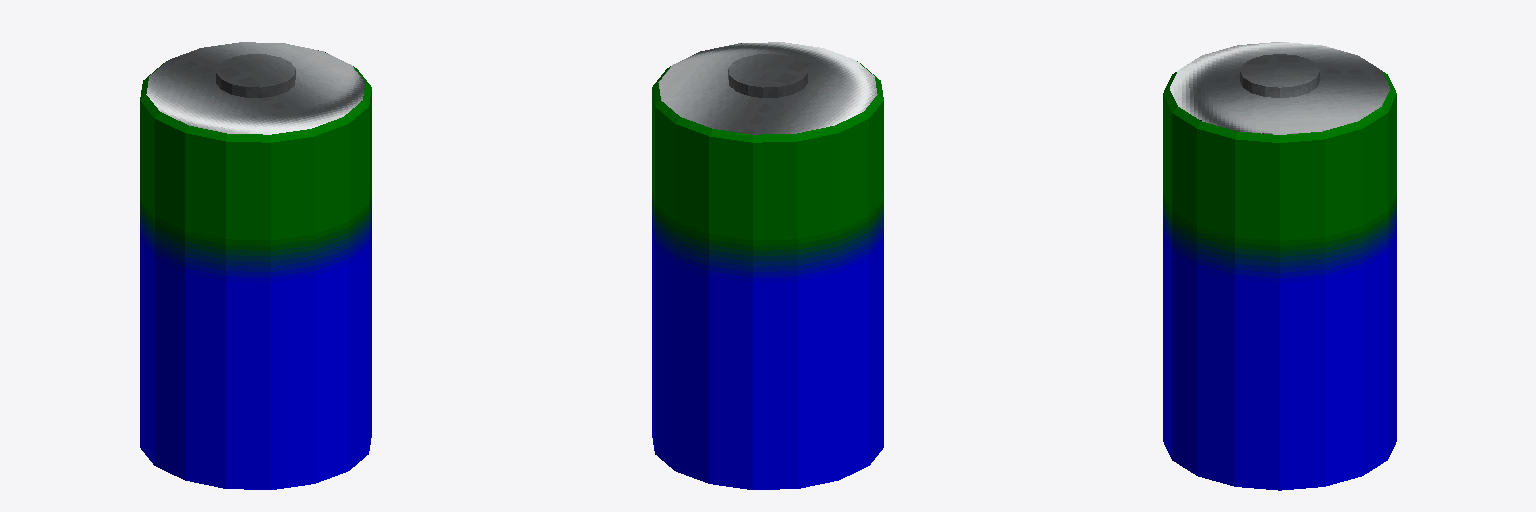
3 renders of one model, left to right at view 1: azimuth 30°, elevation 25°; view 2: azimuth 150°, elevation 25°; view 3: azimuth 270°, elevation 25°, orthographic.
Parts seen in each view (by area): view 1: battery; view 2: battery; view 3: battery.
Part boxes in pixels (x1,y1,x2,y2): battery: (140,42,371,489); battery: (652,42,883,489); battery: (1163,42,1396,490).
Size of the model in its own units: 0.628 by 1.11 by 0.628.
Materials: 1 (1 with a texture image).